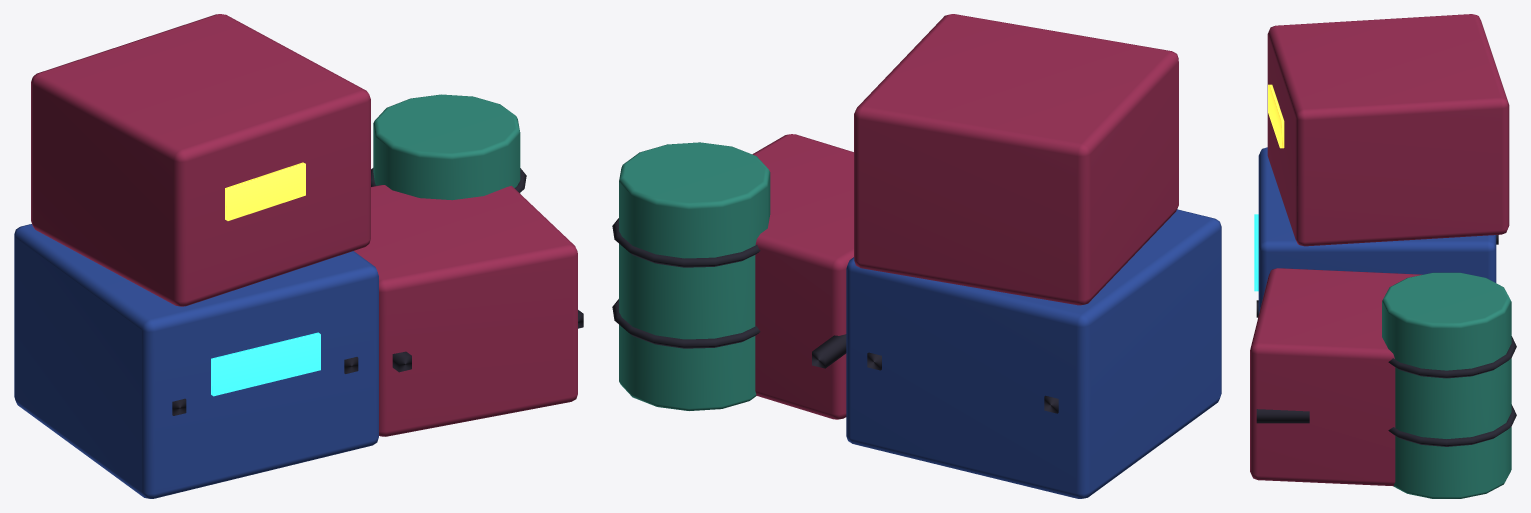
Rendered from neon_crates.glb.
3 renders of one model, left to right at view 1: azimuth 30°, elevation 25°; view 2: azimuth 150°, elevation 25°; view 3: azimuth 270°, elevation 25°, orthographic. The views are drawn at different scales.
Visible parts, largest first — view 1: Crates; view 2: Crates; view 3: Crates.
Boxes of the visible parts, <box> form: Crates: <box>14,14,583,498</box>; Crates: <box>612,14,1221,498</box>; Crates: <box>1250,14,1516,498</box>.
Bounding box in the file's own units: 2.23 × 1.5 × 1.24.
